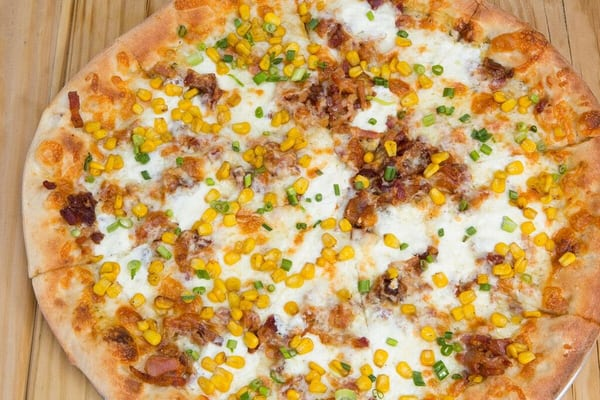sandwich: (22, 0, 595, 395)
